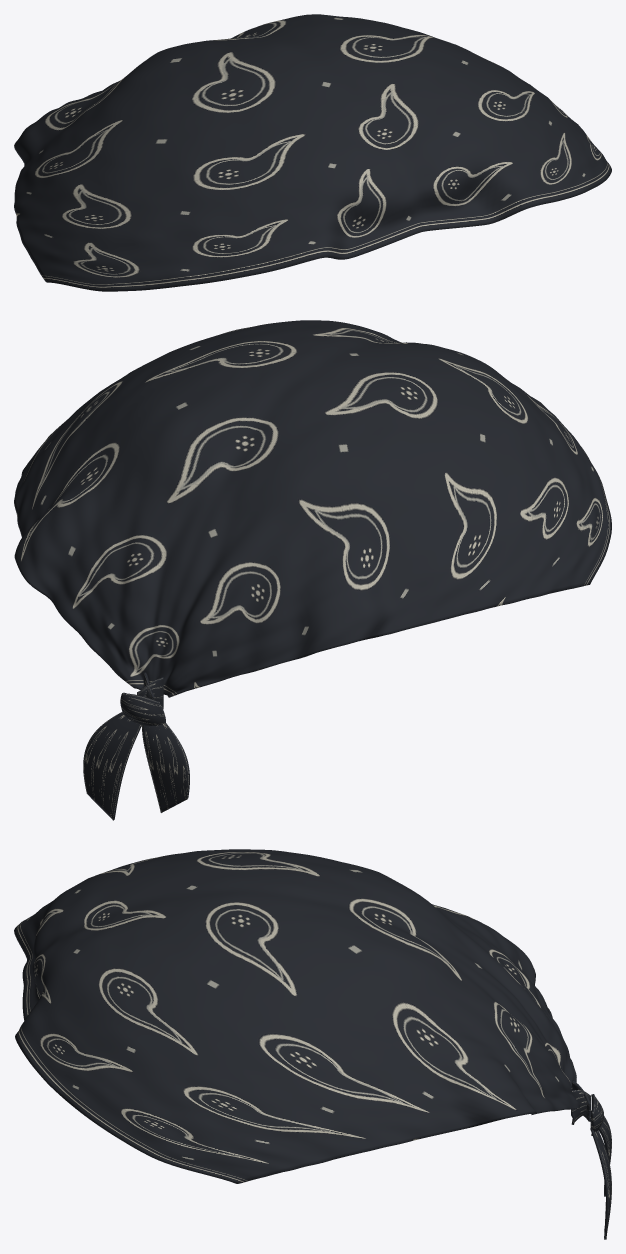
Rendered from Feminine-box-braids-bandana.glb.
3 views of the same model, one above another, from view 1: azimuth 30°, elevation 25°; view 2: azimuth 150°, elevation 25°; view 3: azimuth 270°, elevation 25° (orthographic). The views are drawn at different scales.
Parts seen in each view (by area): view 1: Bandana / triangular crown scarf; view 2: Bandana / triangular crown scarf, Bandana / hemmed tail 1, Bandana / hemmed tail -1, Bandana / rounded knot fold; view 3: Bandana / triangular crown scarf, Bandana / hemmed tail 1.
Boxes of the visible parts, left/top/right/bottom form: Bandana / triangular crown scarf: left=14, top=14, right=611, bottom=291; Bandana / triangular crown scarf: left=14, top=320, right=611, bottom=697; Bandana / hemmed tail 1: left=83, top=711, right=141, bottom=820; Bandana / hemmed tail -1: left=142, top=723, right=189, bottom=812; Bandana / rounded knot fold: left=120, top=692, right=165, bottom=726; Bandana / triangular crown scarf: left=14, top=849, right=579, bottom=1183; Bandana / hemmed tail 1: left=590, top=1119, right=611, bottom=1239.
Size of the model in its own units: 0.7789 by 0.4541 by 0.7268.
Materials: 1 (1 with a texture image).
